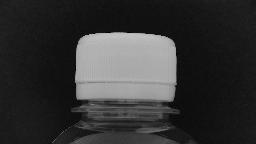Good Cap: (68, 28, 182, 116)
